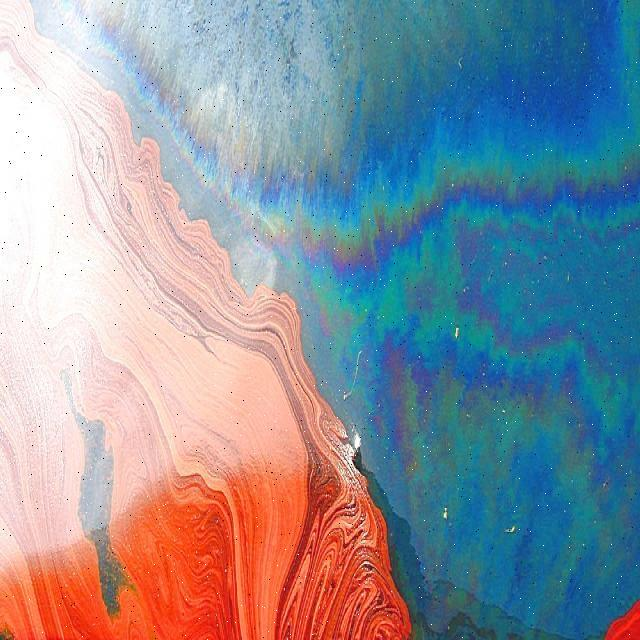oil: (4, 7, 443, 640)
